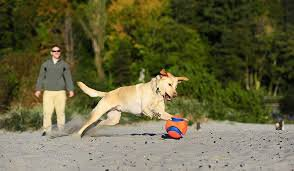dog: (73, 71, 196, 145)
